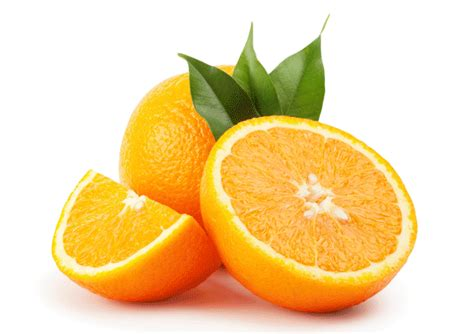orange: (116, 58, 292, 213)
